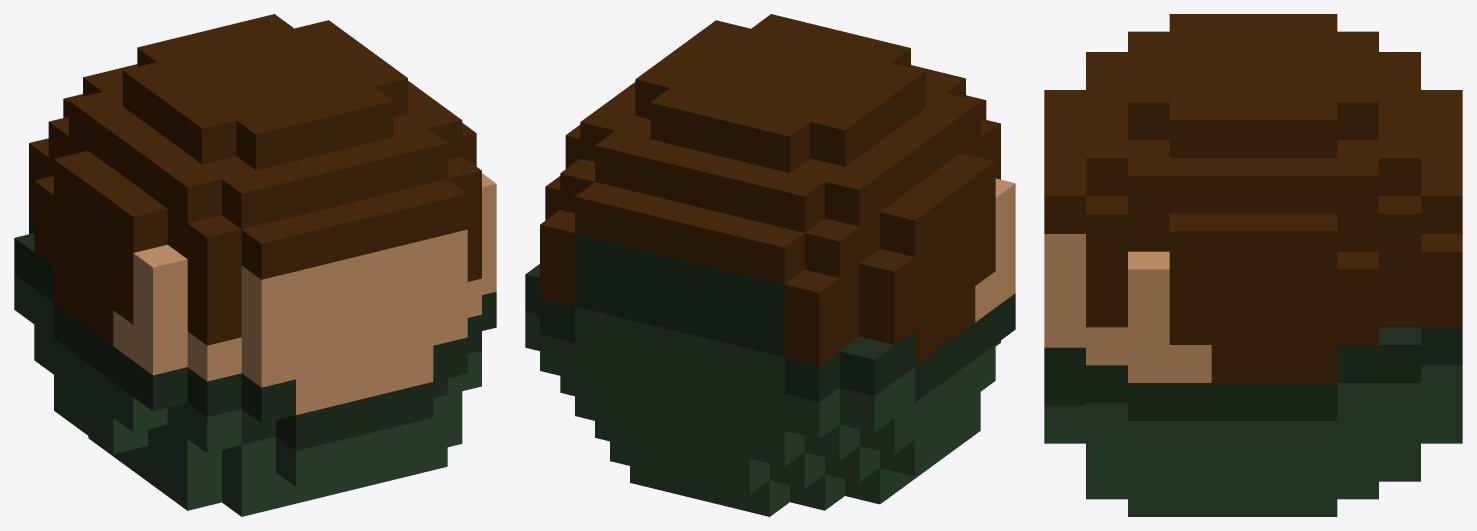
The model's file is DefaultHead.obj.
3 views of the same model, side by side, from view 1: azimuth 30°, elevation 25°; view 2: azimuth 150°, elevation 25°; view 3: azimuth 270°, elevation 25° (orthographic). The views are drawn at different scales.
Size of the model in its own units: 1 by 1 by 1.
Materials: 1 (1 with a texture image).
